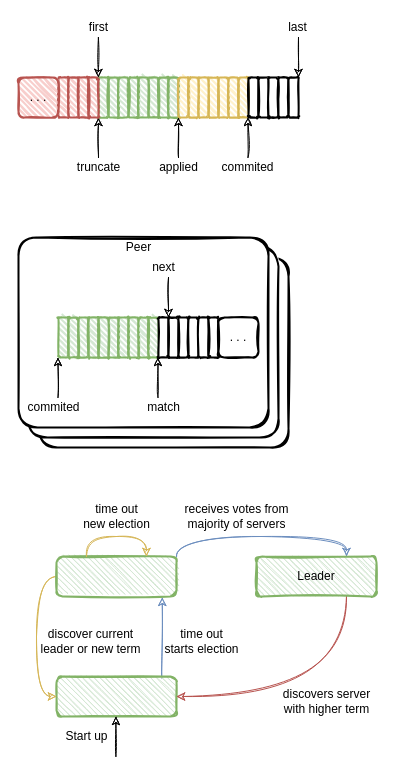
This 394x782 diagram has some shape labels left out. The centre of each missing label's shape, as x and y in pixels:
"Candidate" goes at point (116, 576).
"Follower" goes at point (116, 696).
